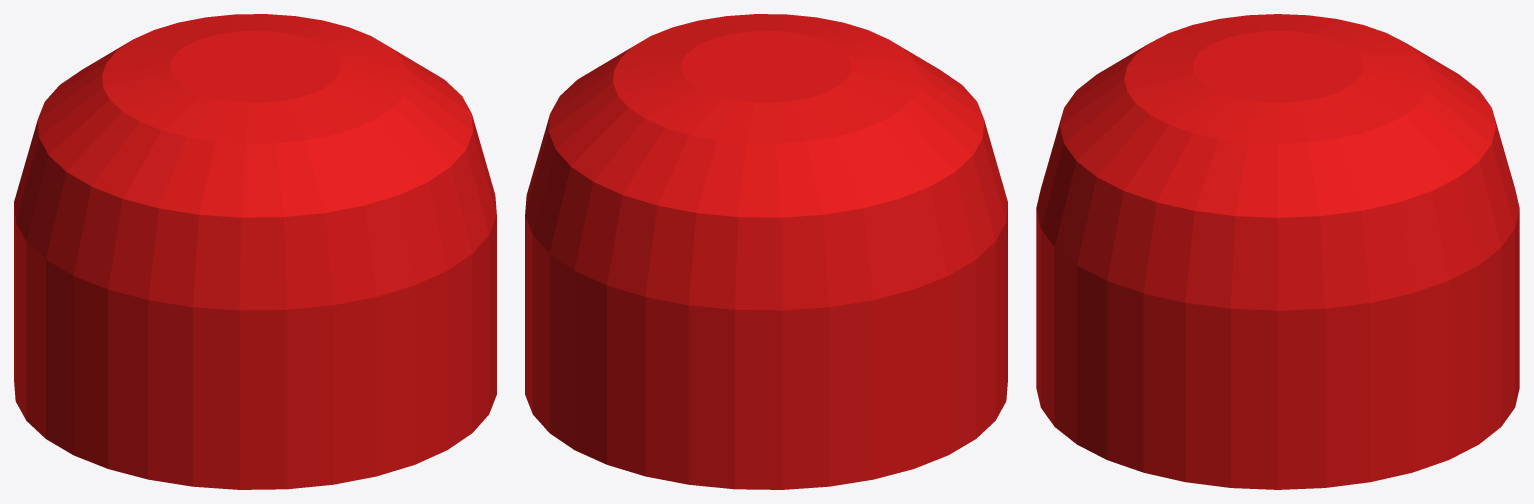
The model's file is Gate_alarmBox_Light.fbx.
The picture shows the model from 3 angles, left to right: view 1: azimuth 30°, elevation 25°; view 2: azimuth 150°, elevation 25°; view 3: azimuth 270°, elevation 25°; orthographic projection.
Parts seen in each view (by area): view 1: Gate_box.001; view 2: Gate_box.001; view 3: Gate_box.001.
Part boxes in pixels (x1,y1,x2,y2): Gate_box.001: (14,14,496,489); Gate_box.001: (525,14,1007,489); Gate_box.001: (1036,14,1519,489).
Bounding box in the file's own units: 32.55 × 23.84 × 32.55.
